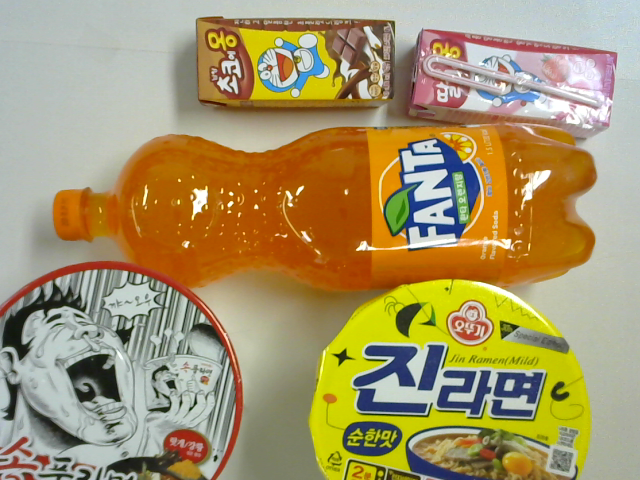Choco_E_Mong: (171, 15, 407, 103)
Hejangpul: (7, 270, 253, 480)
Hwanta_Orange_1.5L: (41, 108, 611, 288)
Jinlamyeon_Mild_Taste_Large_Cup: (301, 272, 599, 480)
Strawberry_E_Mong: (389, 28, 614, 132)
